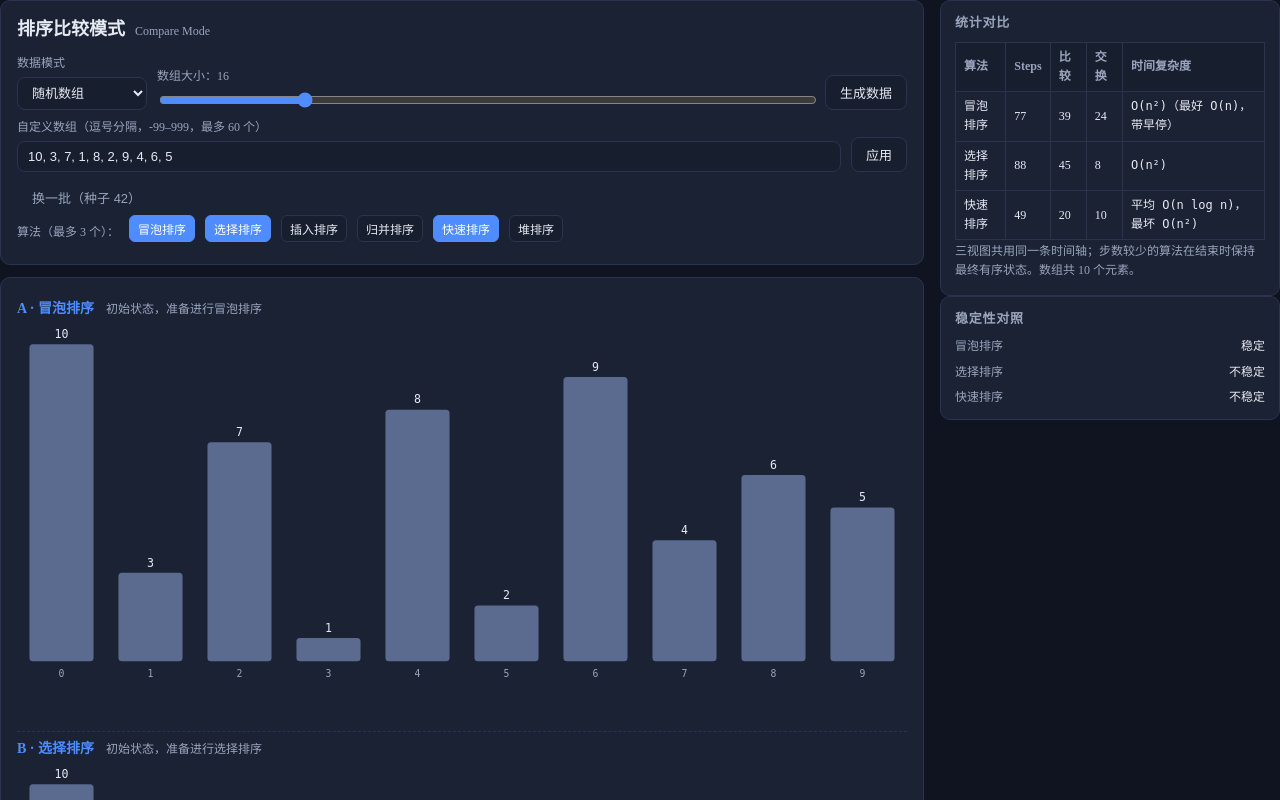
Scenario: ComparePage › 取消选择至 0 个算法显示空态；重新选择恢复
Click the button "冒泡排序" at (162, 229), box [129,215,195,242]
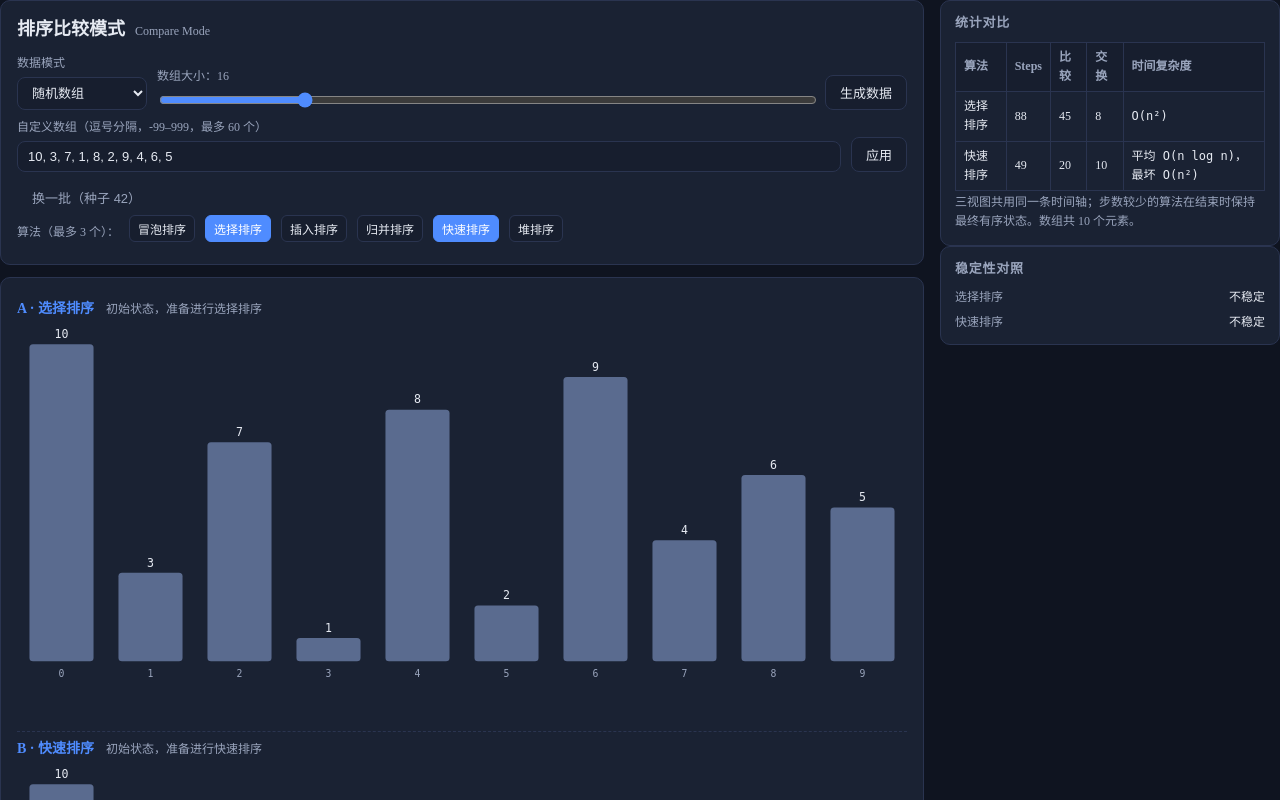
Click the button "选择排序" at (238, 229), box [205,215,271,242]
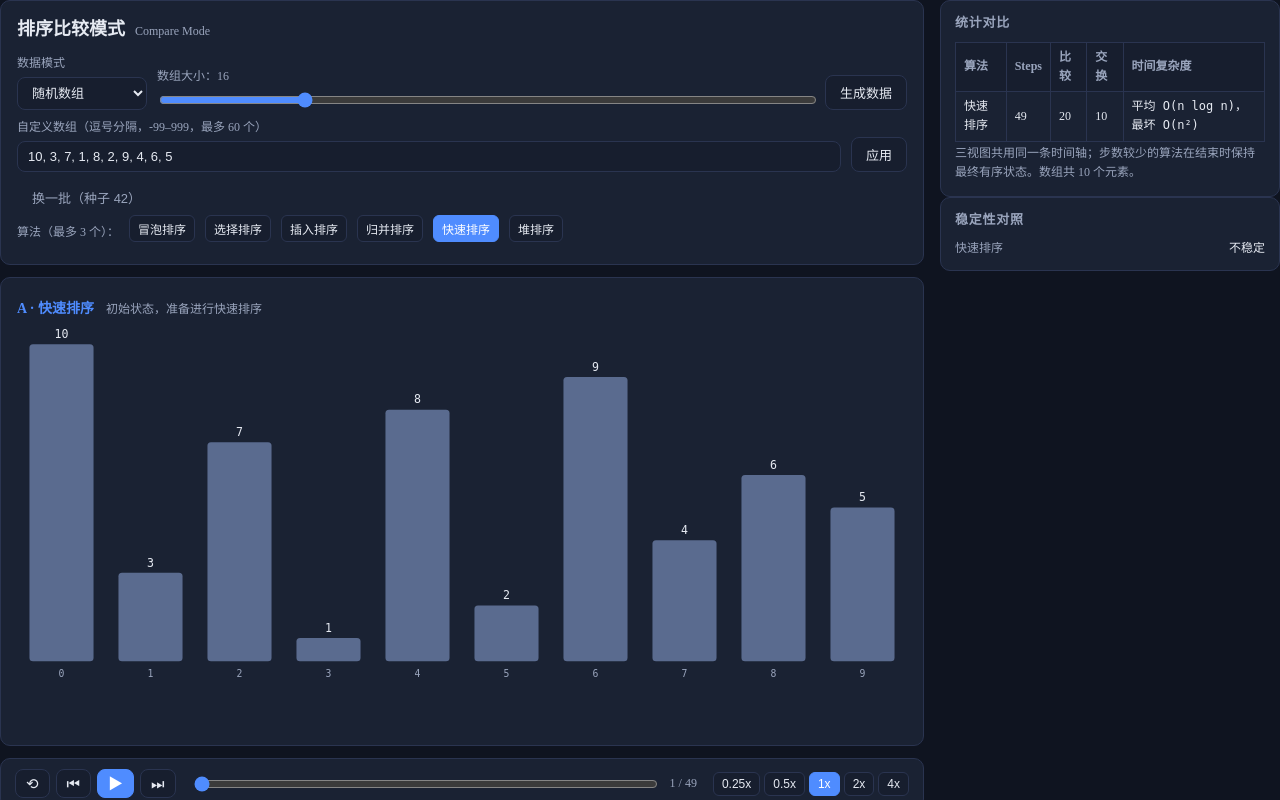
Click the button "快速排序" at (466, 229), box [433,215,499,242]
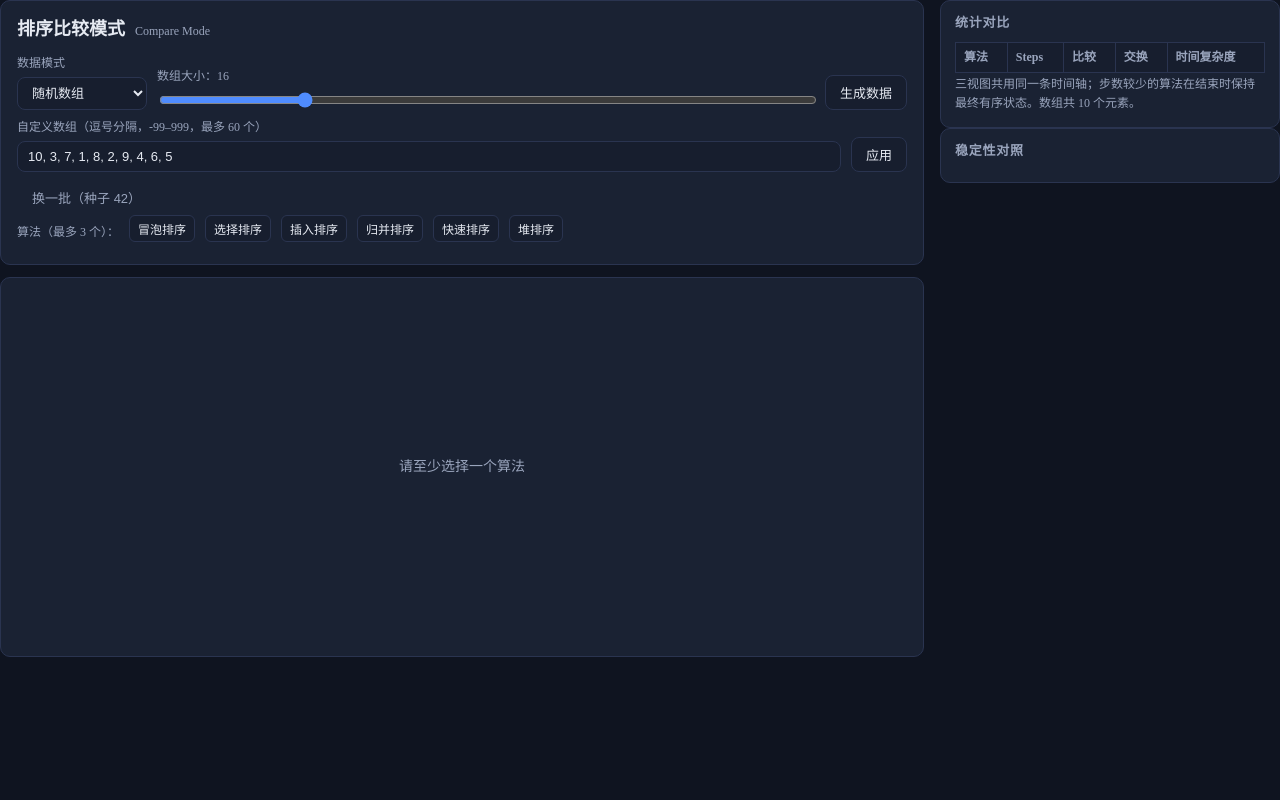
Now the text "请至少选择一个算法" is shown, box [399,459,525,474]
Click the button "冒泡排序" at (162, 229), box [129,215,195,242]
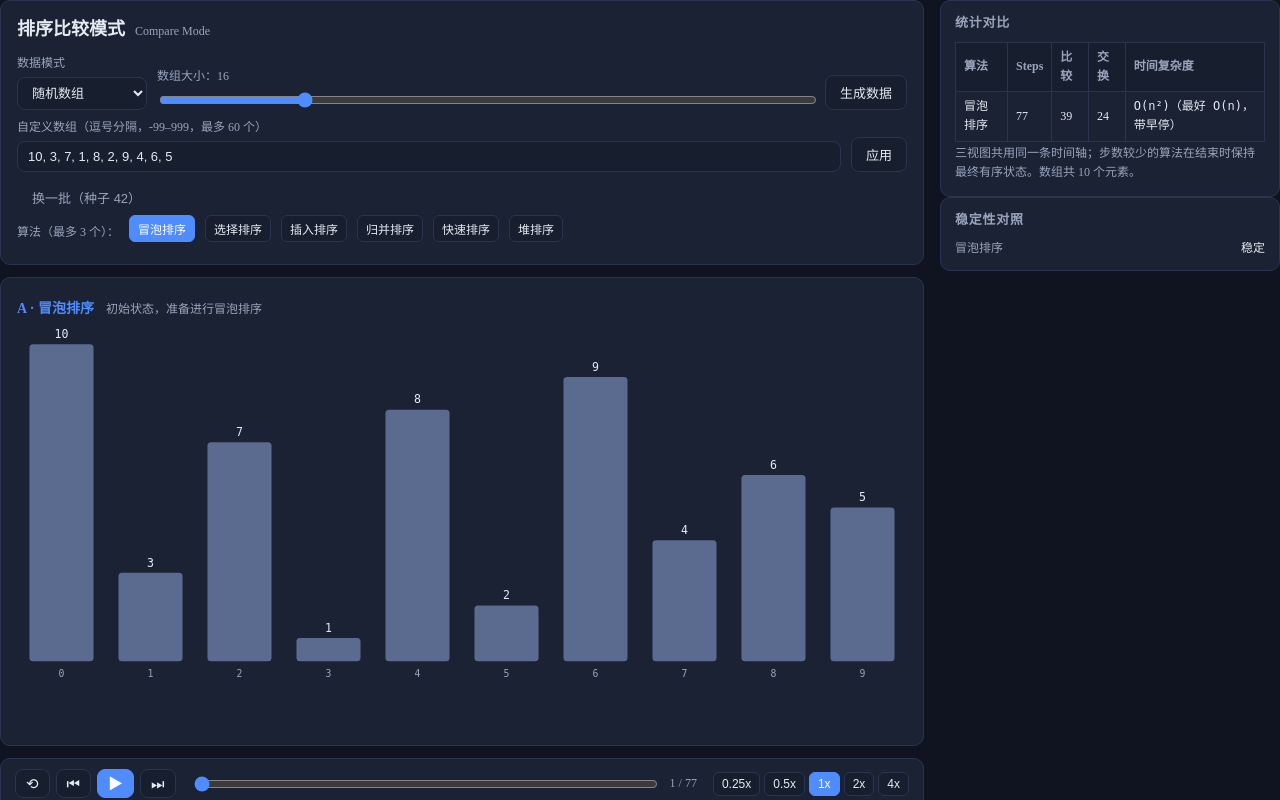
Now the text "请至少选择一个算法" is gone
